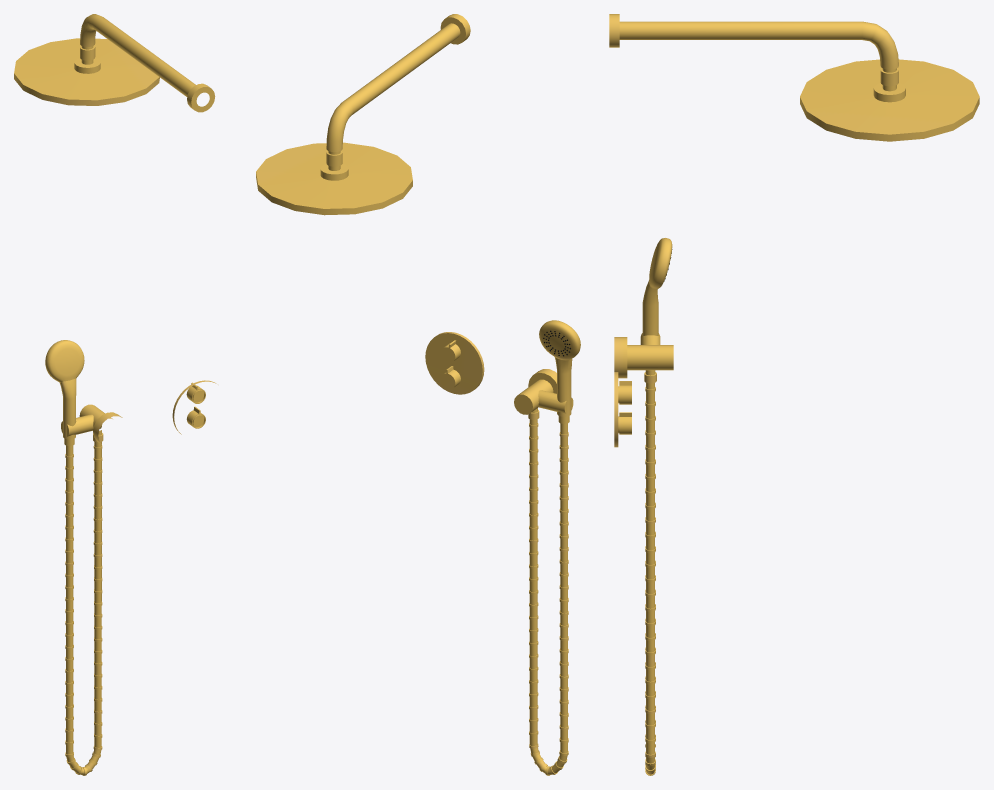
Rendered from ShowerSystem06.glb.
The picture shows the model from 3 angles, left to right: view 1: azimuth 30°, elevation 25°; view 2: azimuth 150°, elevation 25°; view 3: azimuth 270°, elevation 25°; orthographic projection. The views are drawn at different scales.
Visible parts, largest first — view 1: ShowerSystem06_model; view 2: ShowerSystem06_model; view 3: ShowerSystem06_model.
Boxes of the visible parts, bbox=[...] form: ShowerSystem06_model: bbox=[14, 14, 216, 775]; ShowerSystem06_model: bbox=[256, 14, 580, 775]; ShowerSystem06_model: bbox=[609, 14, 979, 775].
Size of the model in its own units: 0.8164 by 2.64 by 1.08.
Materials: 1 (1 with a texture image).
